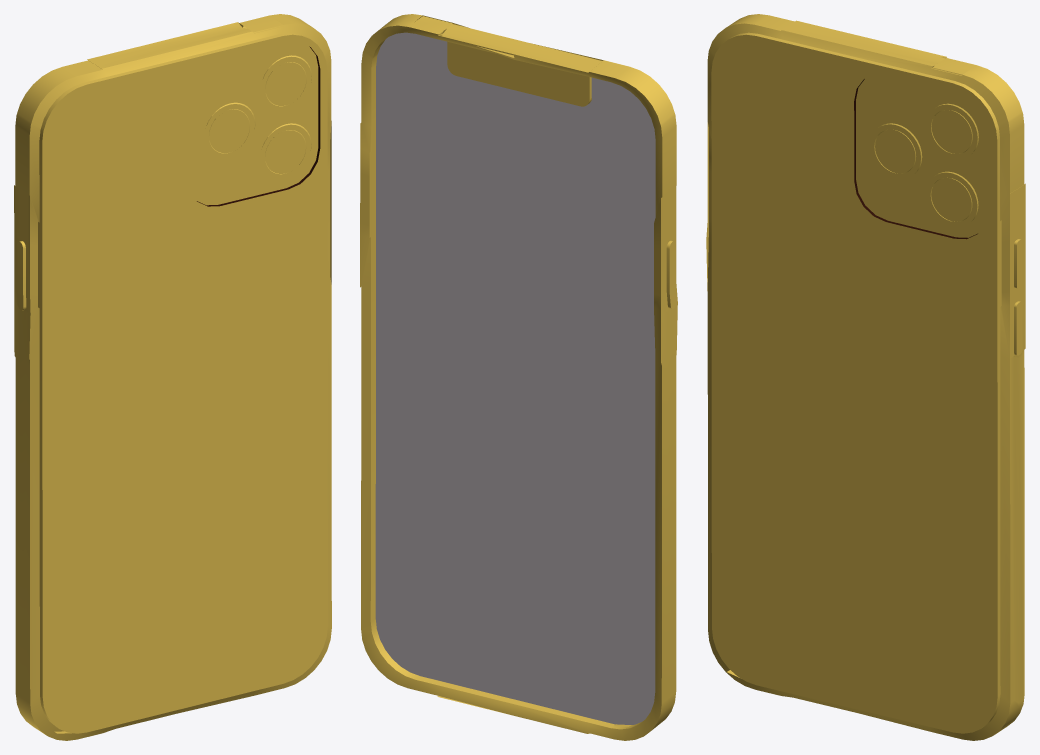
The model's file is phone 1.fbx.
3 views of the same model, side by side, from view 1: azimuth 30°, elevation 25°; view 2: azimuth 150°, elevation 25°; view 3: azimuth 330°, elevation 25° (orthographic).
Parts seen in each view (by area): view 1: Plane; view 2: Plane; view 3: Plane.
Boxes of the visible parts, <box> form: Plane: <box>14,14,331,740</box>; Plane: <box>360,14,677,740</box>; Plane: <box>706,14,1025,740</box>.
Size of the model in its own units: 128 by 265 by 15.77.
